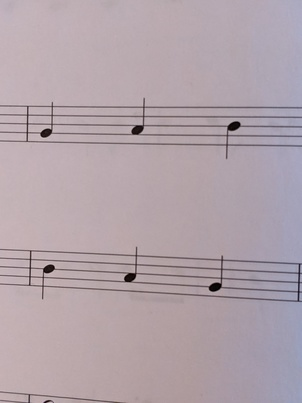A: (126, 94, 151, 149), (119, 245, 142, 301)
B: (221, 95, 245, 163), (36, 245, 60, 305)
G: (202, 250, 229, 306), (36, 99, 60, 149)
